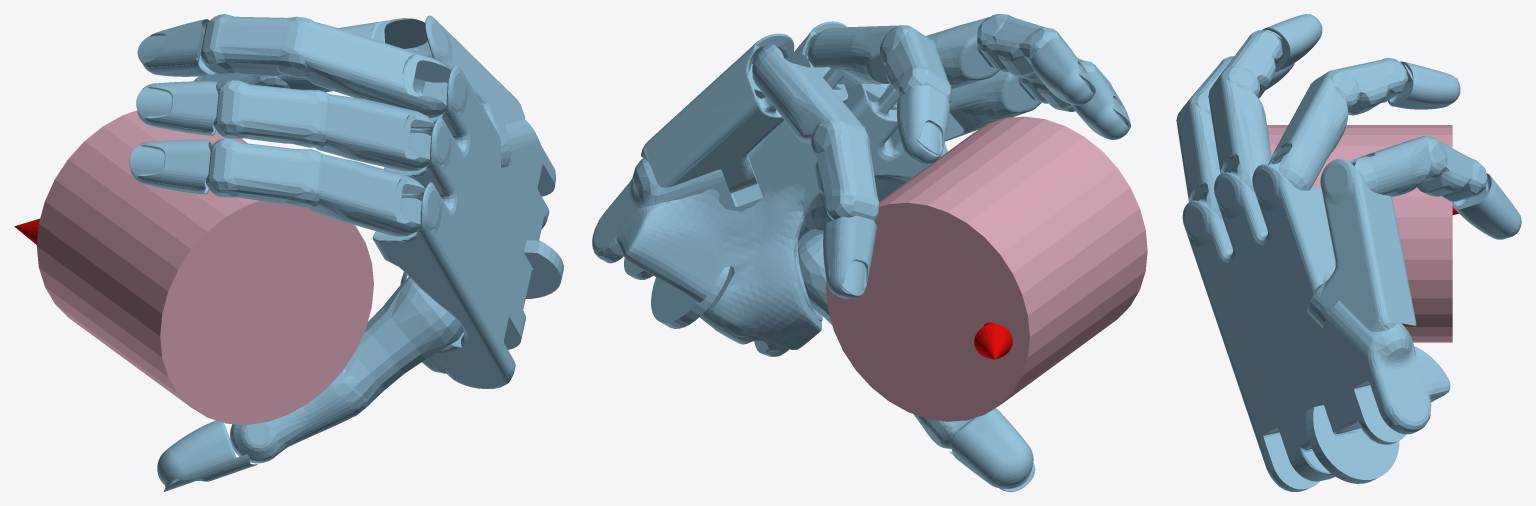
3 renders of one model, left to right at view 1: azimuth 30°, elevation 25°; view 2: azimuth 150°, elevation 25°; view 3: azimuth 270°, elevation 25°, orthographic. The views are drawn at different scales.
Parts seen in each view (by area): view 1: world, cylinder_medium.stl; view 2: world, cylinder_medium.stl; view 3: world, cylinder_medium.stl.
Boxes of the visible parts, x1=… form: world: x1=14, y1=14, x2=563, y2=491; cylinder_medium.stl: x1=36, y1=110, x2=373, y2=424; world: x1=592, y1=14, x2=1130, y2=491; cylinder_medium.stl: x1=826, y1=116, x2=1147, y2=421; world: x1=1176, y1=14, x2=1521, y2=491; cylinder_medium.stl: x1=1267, y1=125, x2=1452, y2=342.
Bounding box in the file's own units: 0.184 × 0.1604 × 0.1267.
